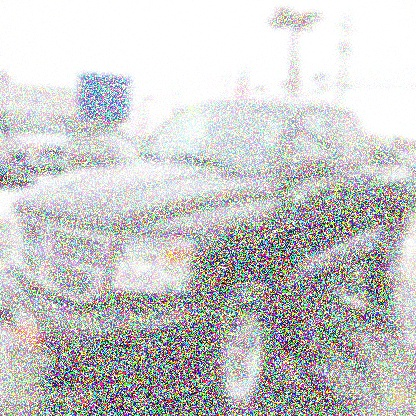Vehicle: (4, 96, 410, 414)
